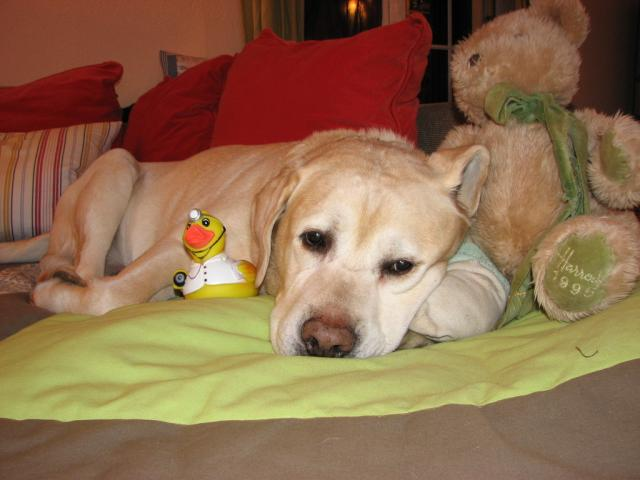Dog: (0, 126, 492, 361)
